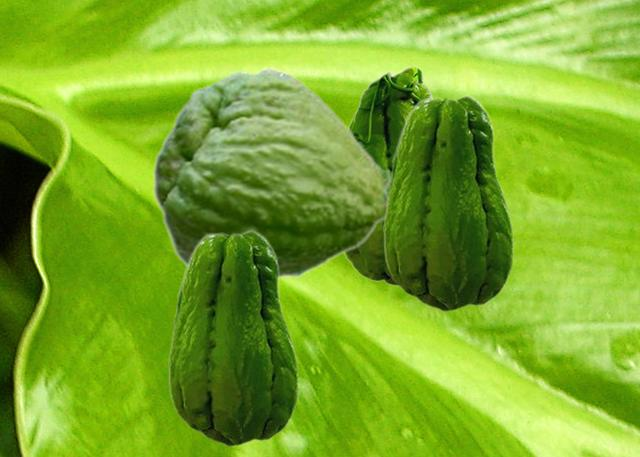sayote: (152, 67, 390, 282), (383, 94, 513, 311), (168, 229, 298, 446), (342, 65, 433, 286)
